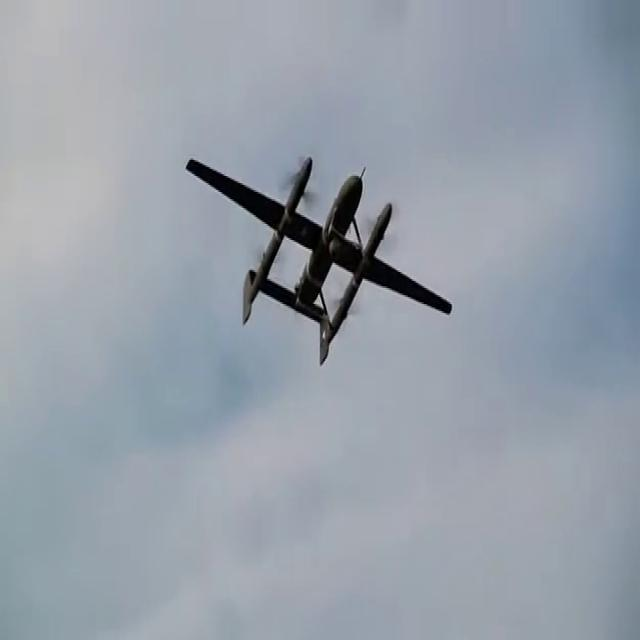iha: (189, 160, 451, 352)
